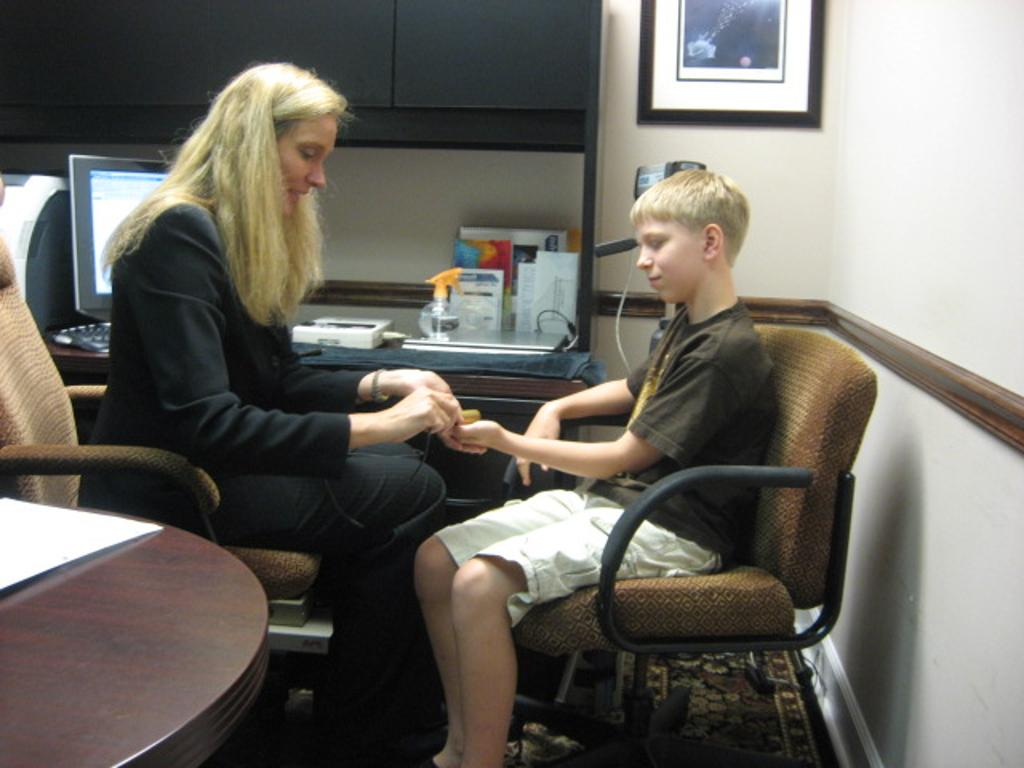face: (264, 110, 330, 218), (636, 212, 694, 304)
